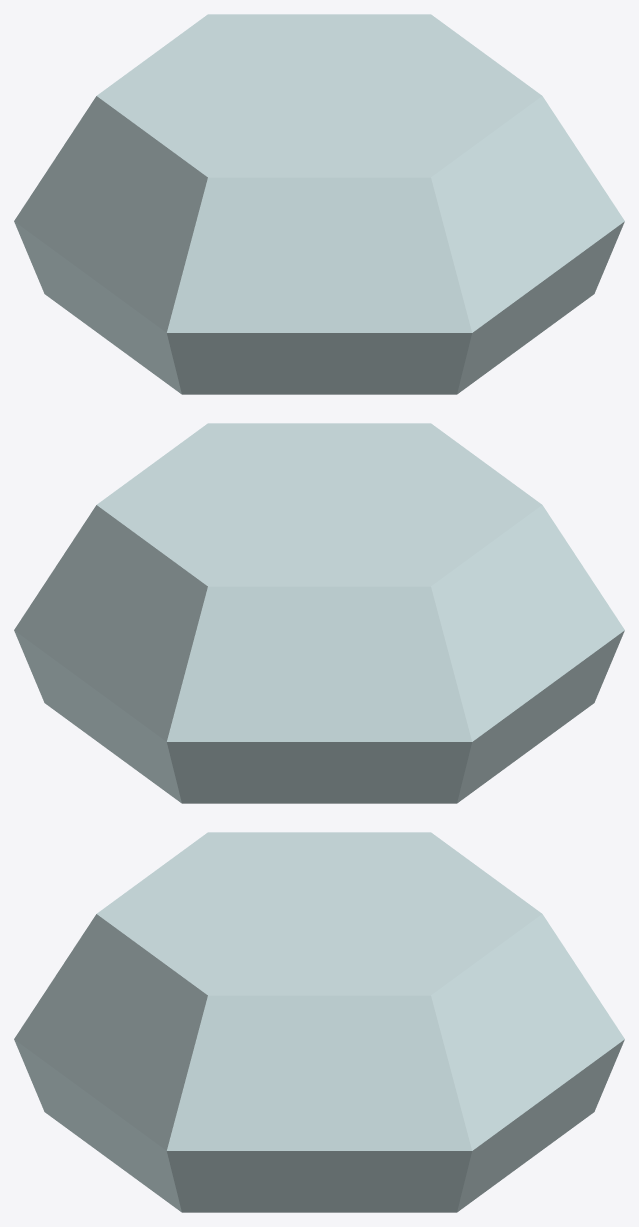
File: nature-kit-classic--stone-small7.glb
The picture shows the model from 3 angles, top to bottom: view 1: azimuth 30°, elevation 25°; view 2: azimuth 150°, elevation 25°; view 3: azimuth 270°, elevation 25°; orthographic projection.
Parts seen in each view (by area): view 1: stone_small7; view 2: stone_small7; view 3: stone_small7.
Boxes of the visible parts, x1,y1,x2,y2 form: stone_small7: (14, 14, 624, 394); stone_small7: (14, 423, 624, 803); stone_small7: (14, 832, 624, 1212).
Size of the model in its own units: 0.5937 by 0.2453 by 0.6855.
